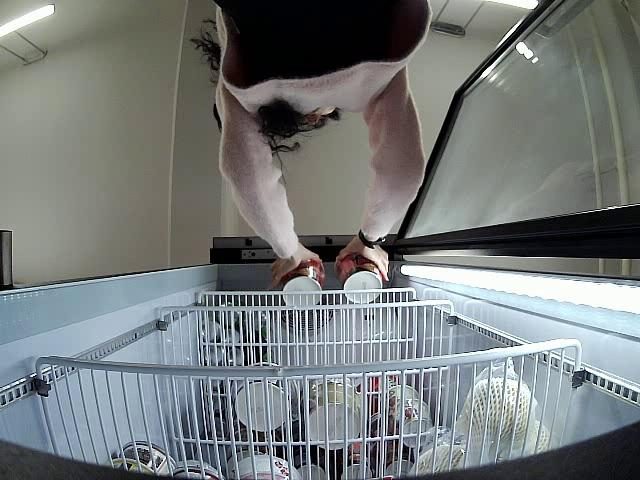00_hand: (267, 244, 324, 291), (337, 236, 391, 282)
01_shinRamen_L: (334, 251, 384, 304), (280, 260, 324, 310)
